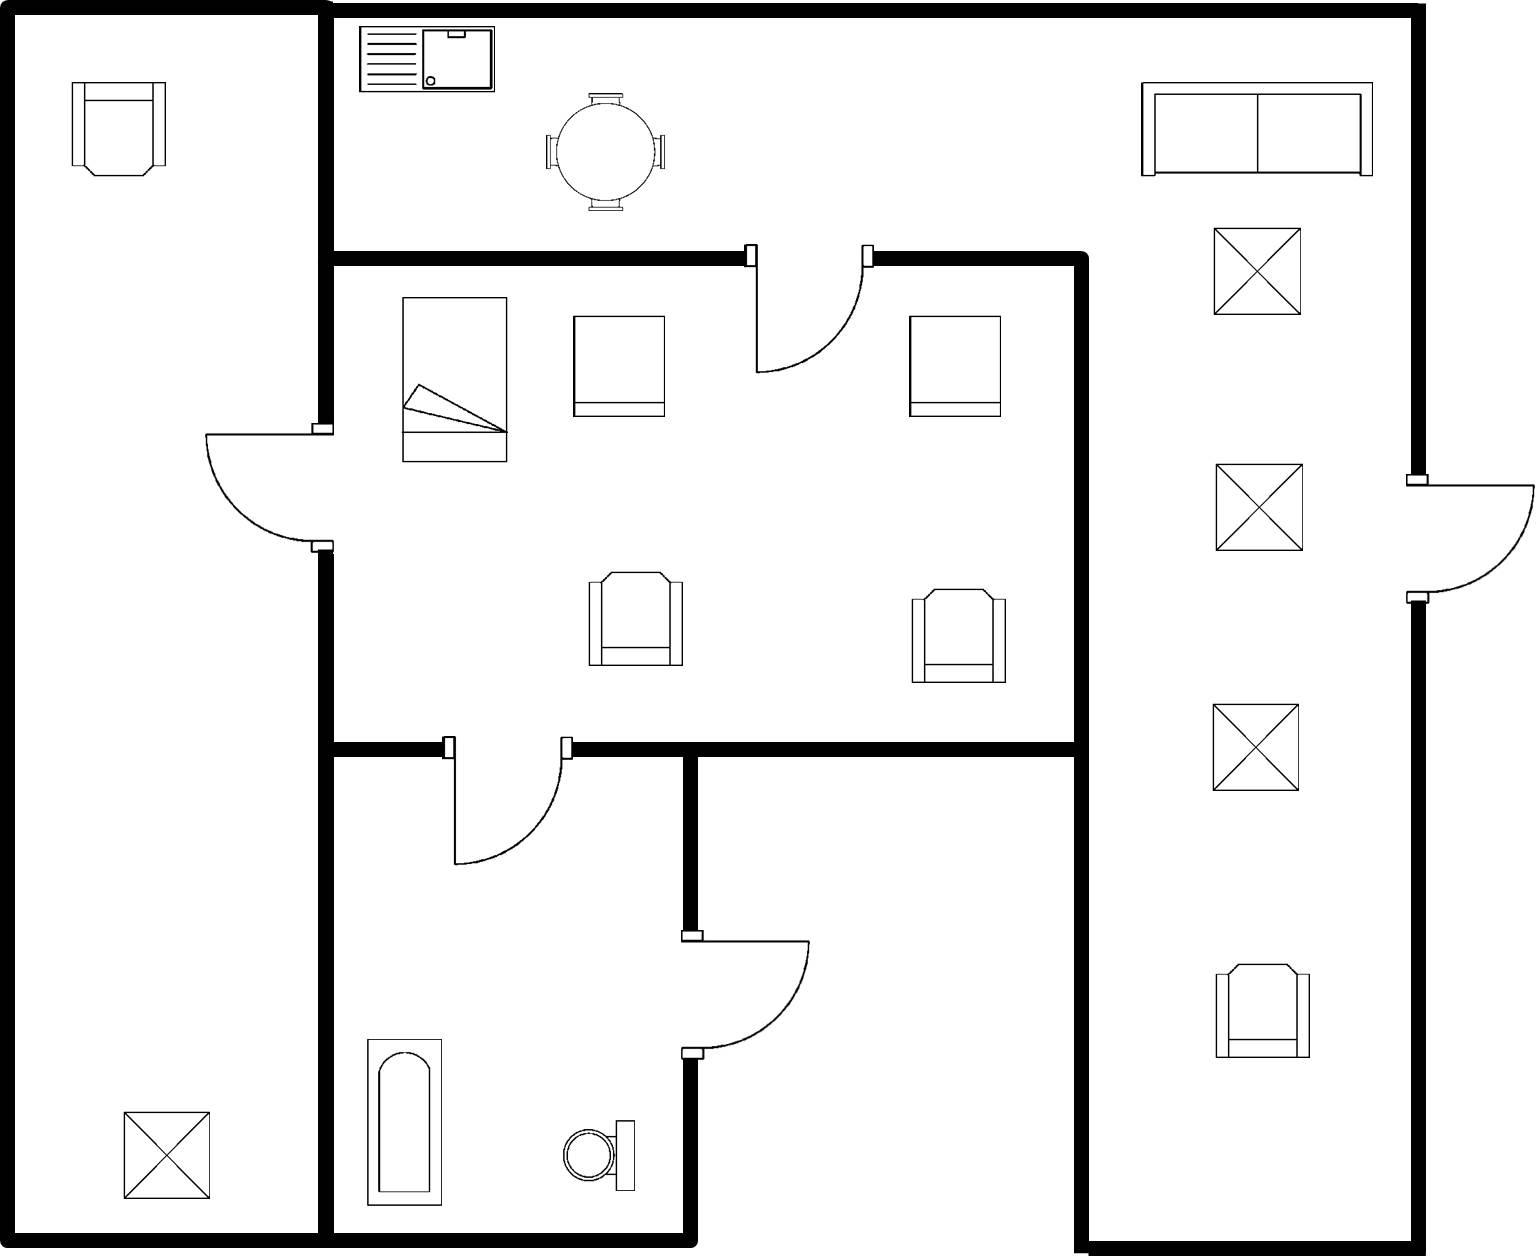bed: (392, 288, 515, 469)
round_table: (535, 84, 676, 219)
sink: (353, 18, 501, 99)
sofa: (1133, 74, 1382, 184)
toilet: (554, 1109, 643, 1202)
tub: (357, 1026, 449, 1211)
